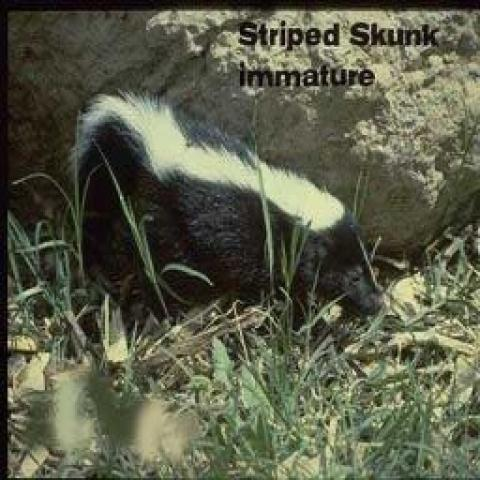small_animal: (0, 0, 478, 478), (66, 86, 390, 336)
